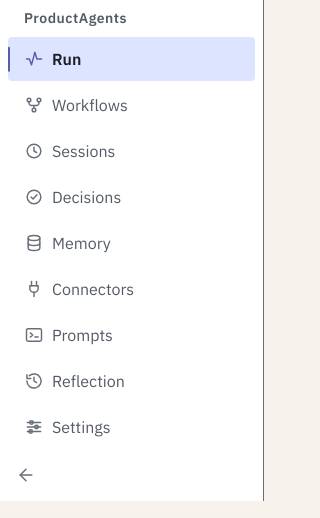
Test: Sidebar › collapses to an icon-only rail on toggle, hiding labels
The image size is (320, 518).
Check: the text "Settings" is shown, box top-left (52, 417), bottom-right (110, 437)
Step 1. Click the button named "Collapse sidebar" → point(26, 475), box top-left (8, 457), bottom-right (44, 493)
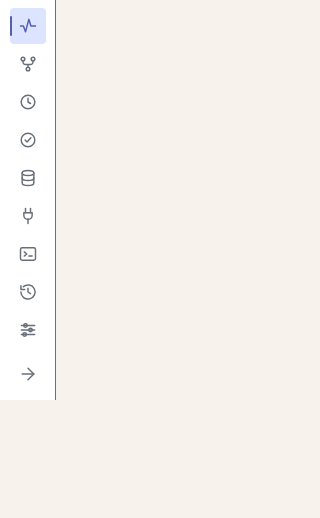
Check: the text with class "sidebar-label" is gone
Check: the button named "Expand sidebar" is shown, box top-left (10, 356), bottom-right (46, 392)
